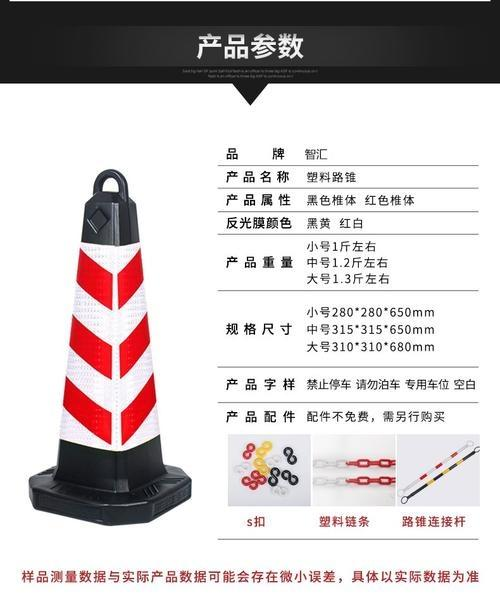cone_barrel: (30, 178, 186, 521)
